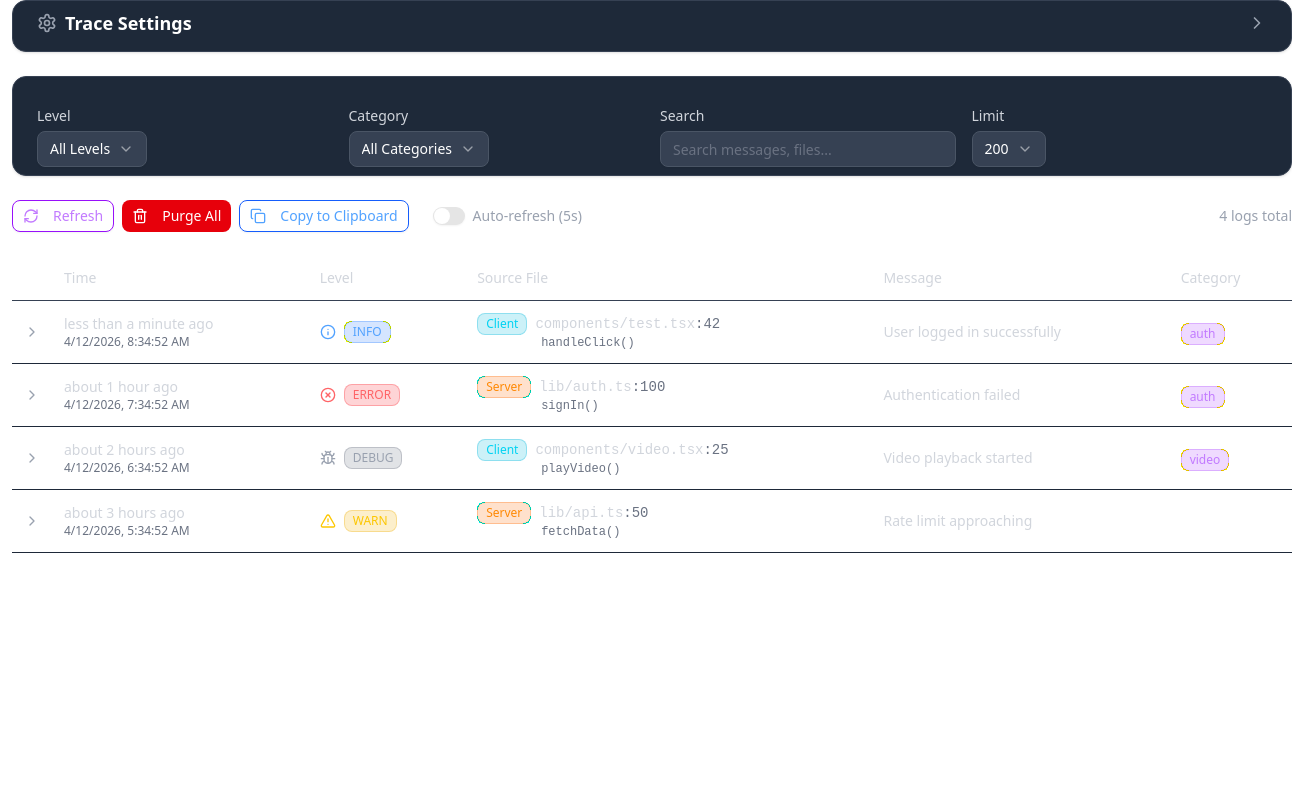
Test case: TraceDashboard › should toggle settings panel when clicked
Expected: the text "Tracing Enabled" is not shown
Click to expand
Step 1. Click the text "Trace Settings" → point(128, 23), box [65,9,192,37]
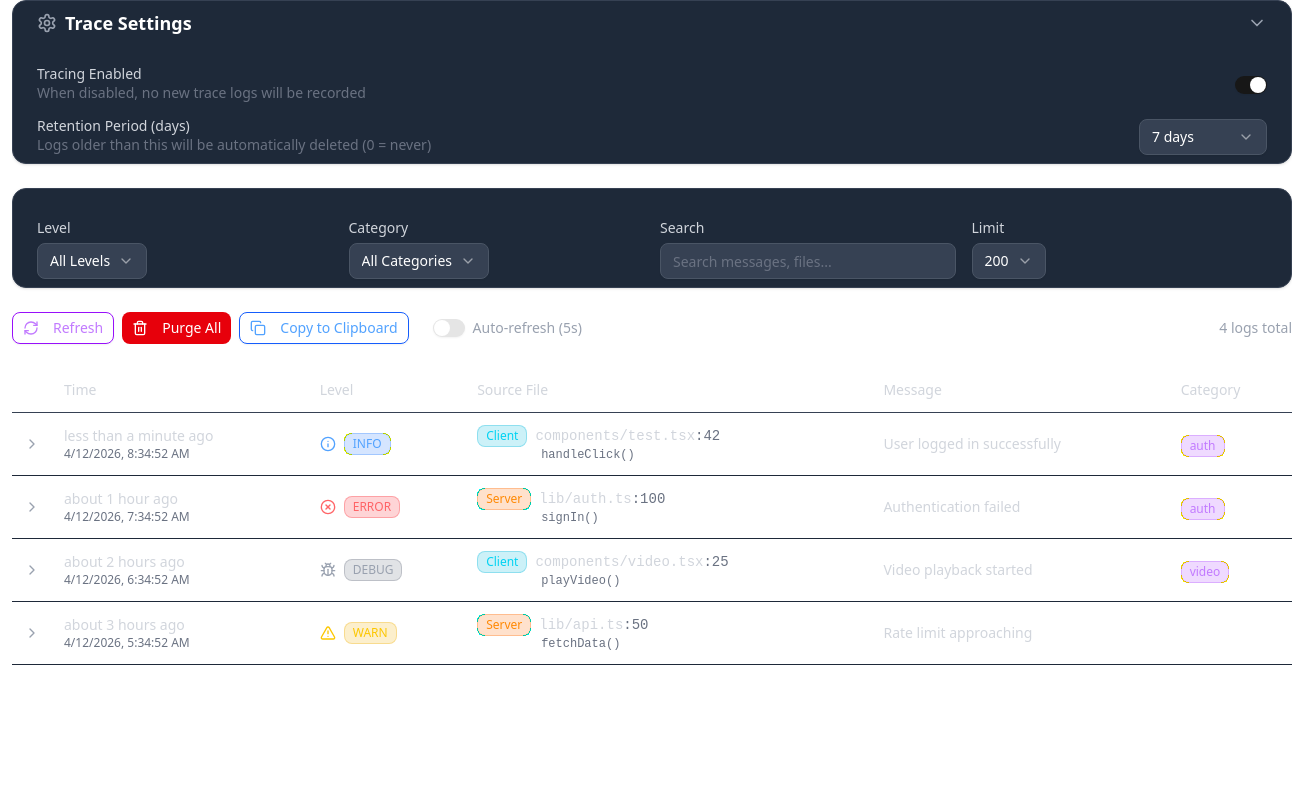
Result: the text "Tracing Enabled" is shown at [37,64,142,83]
